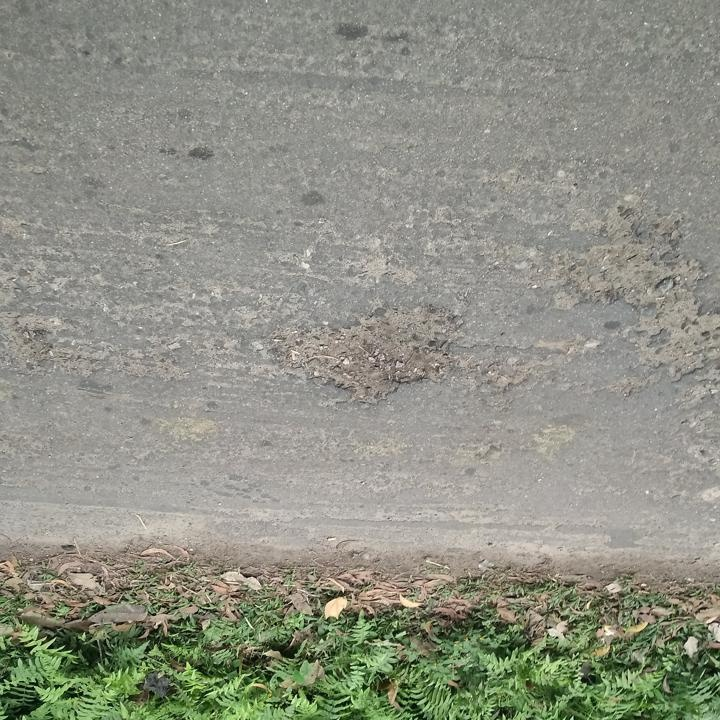pothole: (266, 302, 459, 405), (557, 229, 709, 309), (642, 312, 719, 378)
